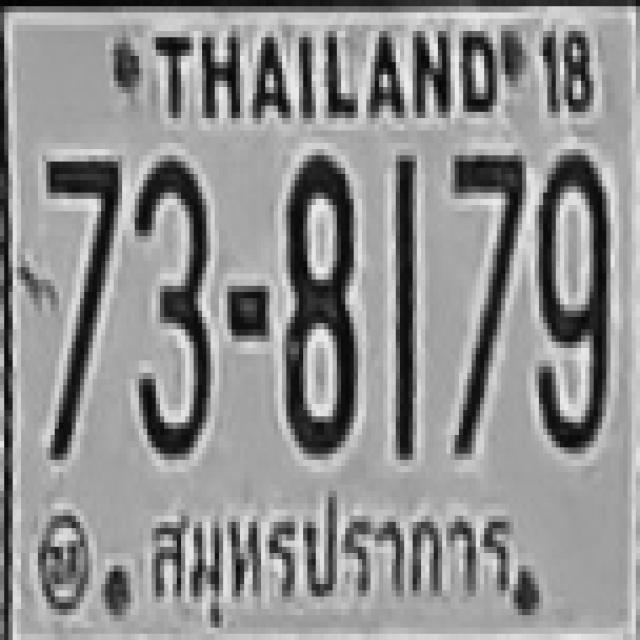1: (389, 152, 415, 438)
3: (130, 155, 207, 454)
7: (42, 155, 118, 454), (451, 149, 522, 454), (44, 155, 120, 398), (42, 155, 118, 348)
8: (282, 149, 354, 454)
9: (535, 149, 606, 448)
SamutPrakan: (140, 488, 517, 628)
